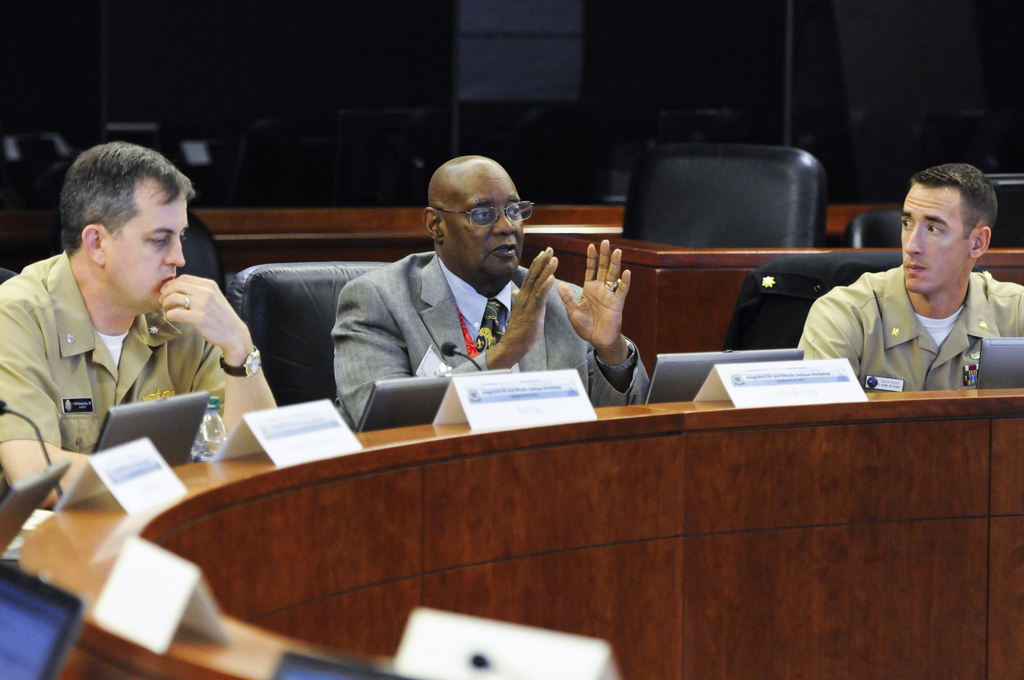Person: (0, 140, 277, 508), (331, 154, 650, 433), (796, 164, 1024, 392)
